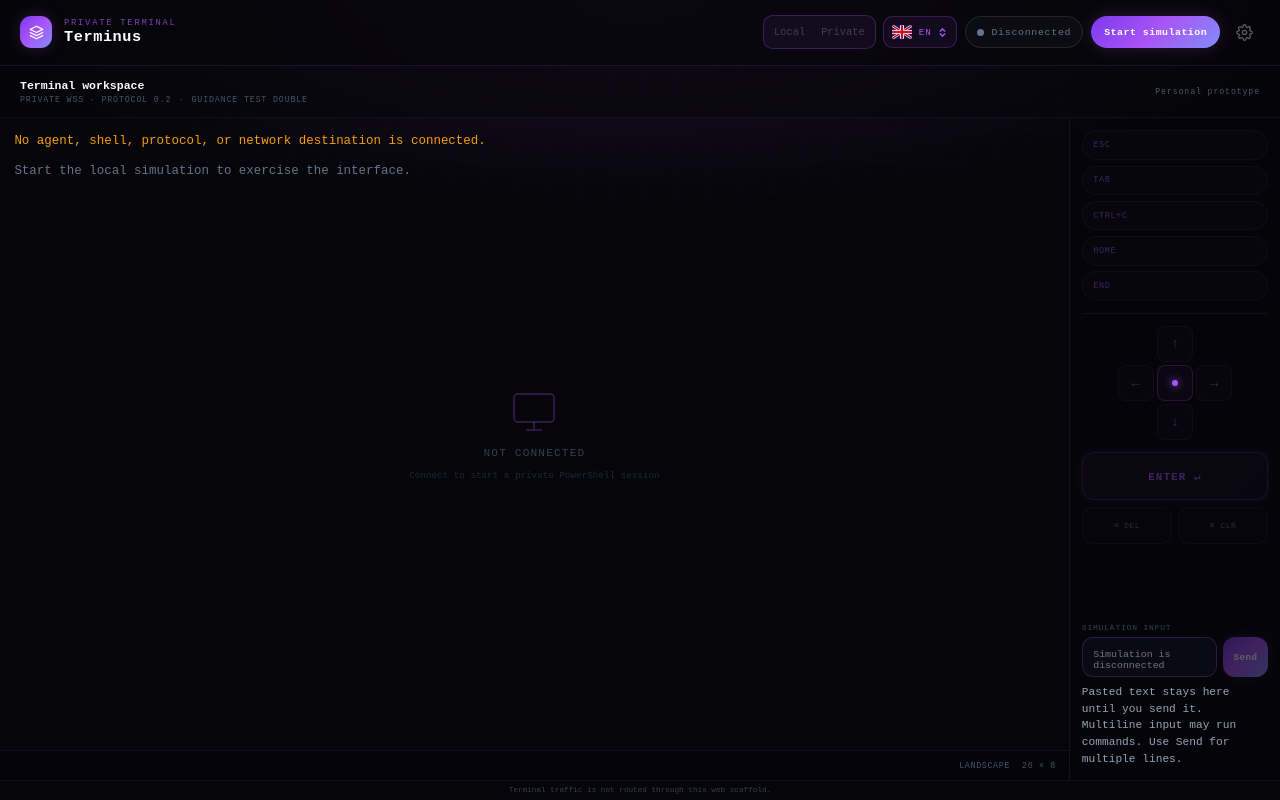
Test: shows truthful transport guidance instead of claiming PowerShell failed
The width and height of the screenshot is (1280, 800).
Step 1. Click the button "Start simulation" → (1156, 32), box [1091,16,1220,48]
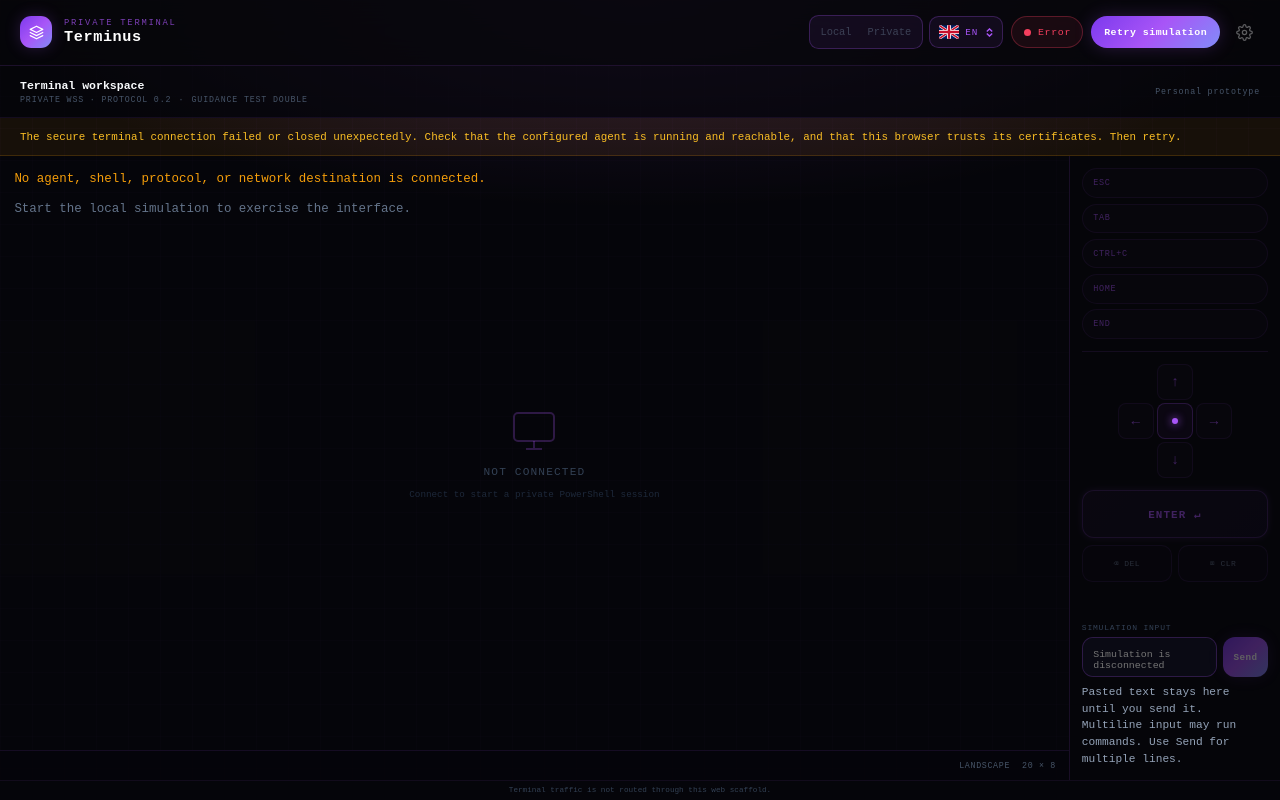
Result: the 2nd message shows "The secure terminal connection failed or closed unexpectedly." at [20,131,1182,143]
Step 2. Click the button with aria-label "Switch to Swedish" → (966, 32), box [929,16,1003,48]
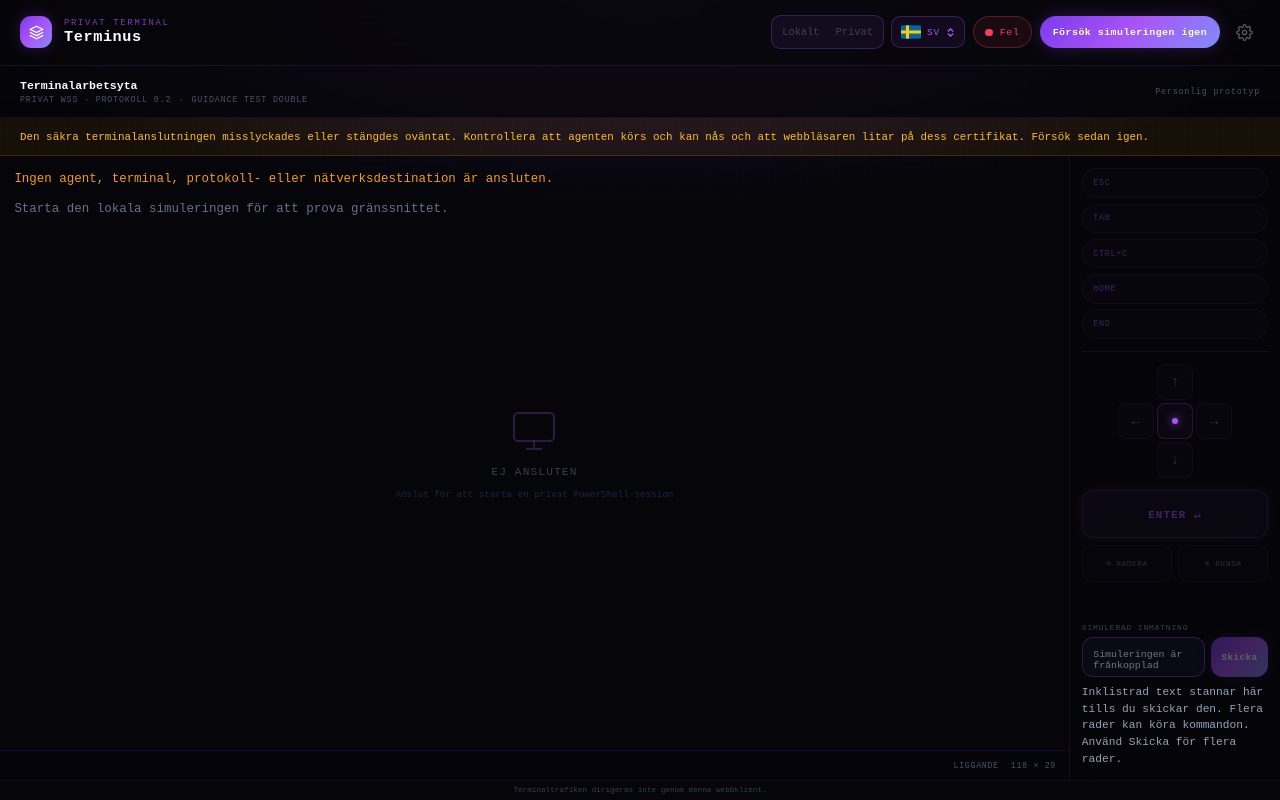
Result: the 2nd message shows "terminalanslutningen" at [20,131,1149,143]
